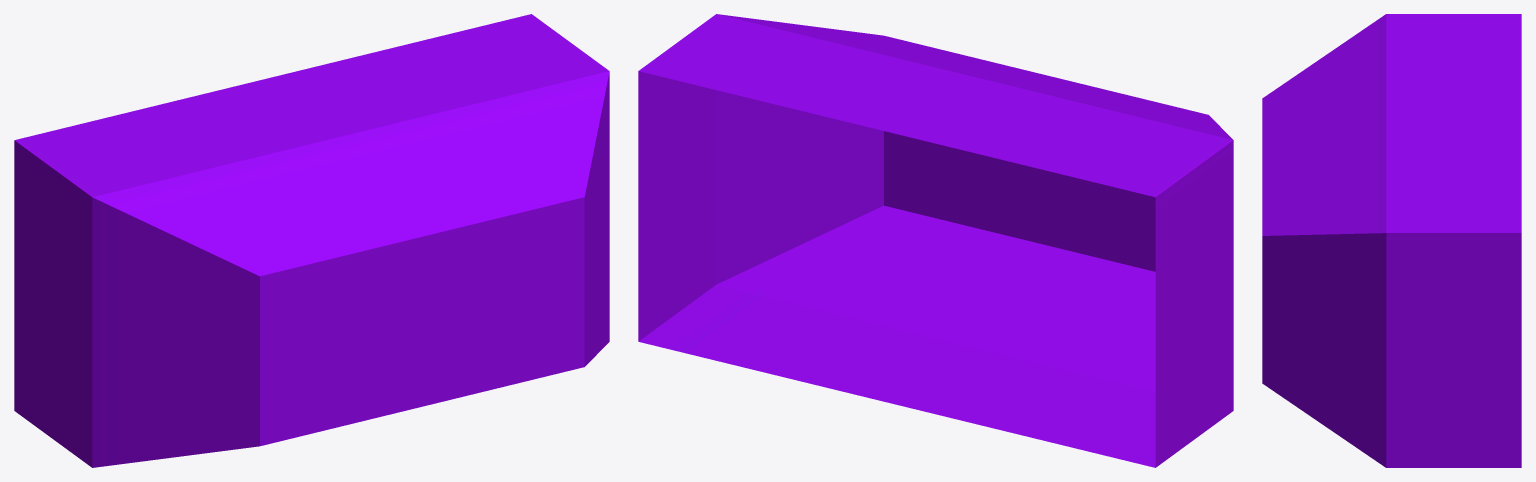
The model's file is BlockViolet.fbx.
3 renders of one model, left to right at view 1: azimuth 30°, elevation 25°; view 2: azimuth 150°, elevation 25°; view 3: azimuth 270°, elevation 25°, orthographic. The views are drawn at different scales.
Parts seen in each view (by area): view 1: BlockViolet; view 2: BlockViolet; view 3: BlockViolet.
Part boxes in pixels (x1,y1,x2,y2): BlockViolet: [14, 14, 609, 467]; BlockViolet: [638, 14, 1233, 467]; BlockViolet: [1262, 14, 1521, 467].
Size of the model in its own units: 108 by 54.18 by 54.18.
1 material, 1 textured.
